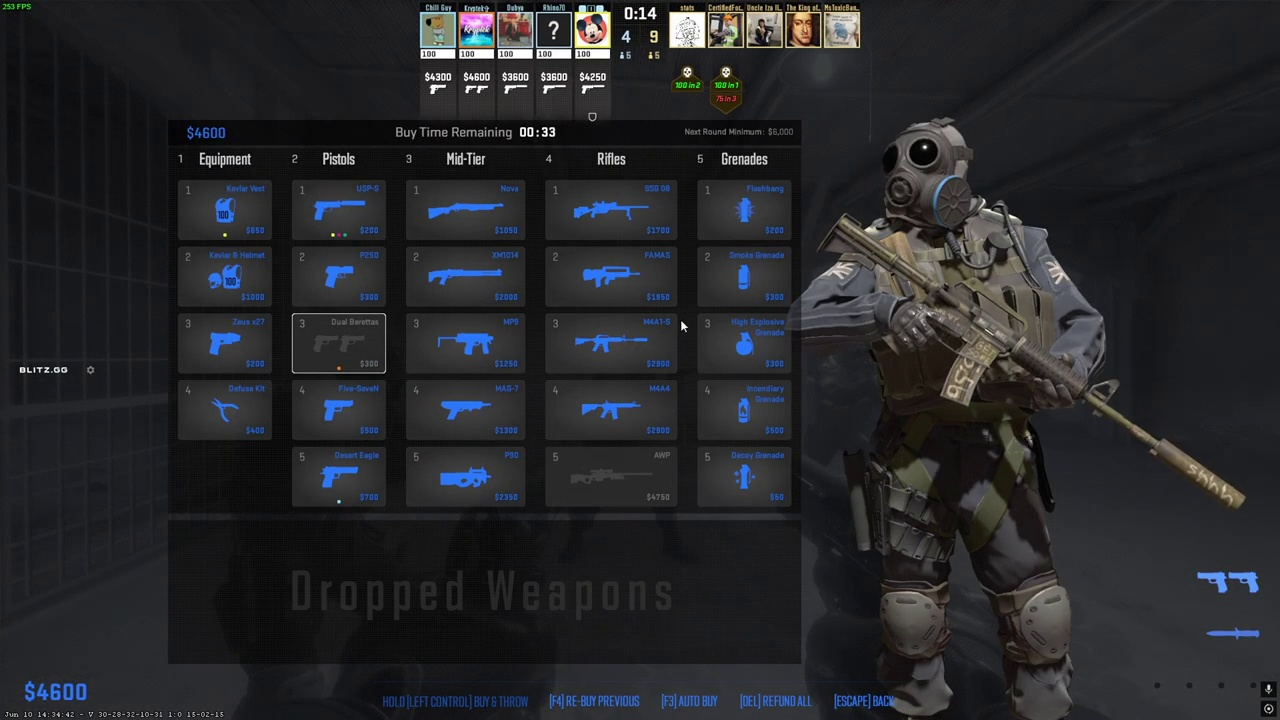CT: (849, 119, 1088, 720)
